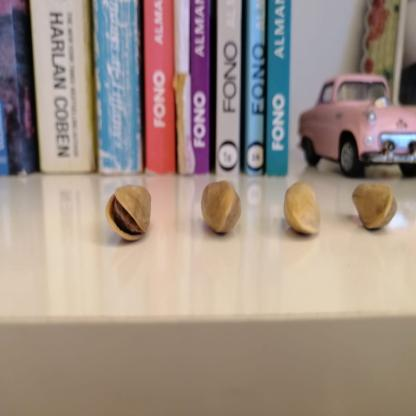pistachio: (103, 181, 163, 247), (338, 174, 398, 234), (277, 178, 326, 236), (199, 178, 244, 235)
